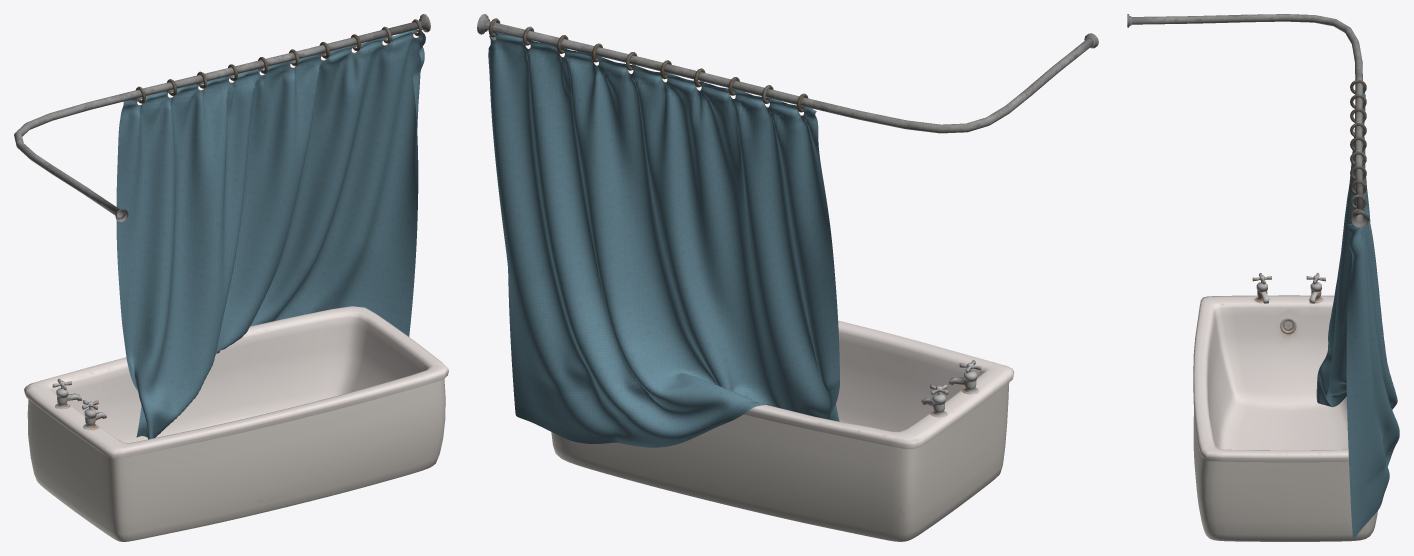
The picture shows the model from 3 angles, left to right: view 1: azimuth 30°, elevation 25°; view 2: azimuth 150°, elevation 25°; view 3: azimuth 270°, elevation 25°; orthographic projection. The views are drawn at different scales.
Parts seen in each view (by area): view 1: BathCurtain, BathSkirt, Bath, CurtainRailing; view 2: BathCurtain, BathSkirt, Bath, CurtainRailing; view 3: Bath, BathCurtain, BathSkirt, CurtainRailing.
Part boxes in pixels (x1,y1,x2,y2): BathCurtain: [116, 29, 425, 439]; BathSkirt: [27, 378, 445, 541]; Bath: [24, 306, 448, 458]; CurtainRailing: [14, 14, 430, 222]; BathCurtain: [488, 31, 839, 447]; BathSkirt: [551, 383, 1009, 541]; Bath: [744, 320, 1014, 449]; CurtainRailing: [477, 14, 1098, 133]; Bath: [1193, 273, 1348, 462]; BathCurtain: [1316, 86, 1399, 539]; BathSkirt: [1193, 322, 1377, 541]; CurtainRailing: [1127, 14, 1369, 227].
Size of the model in its own units: 1.92 by 1.64 by 1.08.
Materials: 2 (2 with a texture image).
